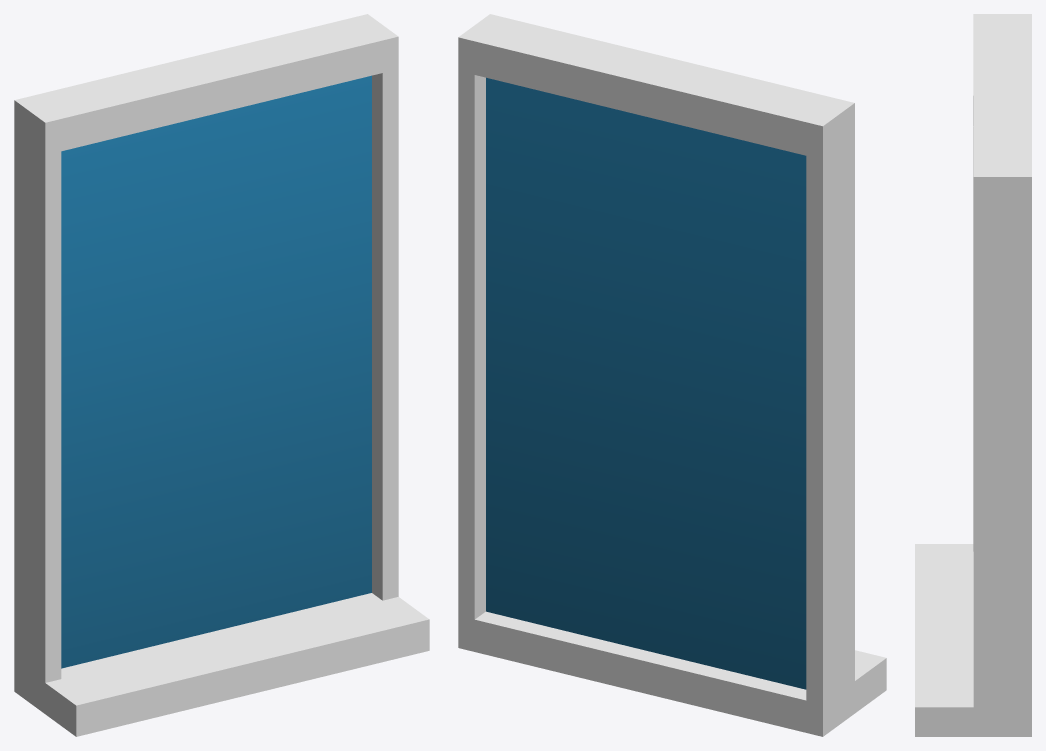
File: Window03.fbx
The picture shows the model from 3 angles, left to right: view 1: azimuth 30°, elevation 25°; view 2: azimuth 150°, elevation 25°; view 3: azimuth 270°, elevation 25°; orthographic projection. The views are drawn at different scales.
Visible parts, largest first — view 1: Window03; view 2: Window03; view 3: Window03.
Part boxes in pixels (left/top/right/bottom): Window03: left=14, top=14, right=429, bottom=736; Window03: left=458, top=14, right=886, bottom=736; Window03: left=915, top=14, right=1031, bottom=736.
Size of the model in its own units: 66 by 106 by 20.
